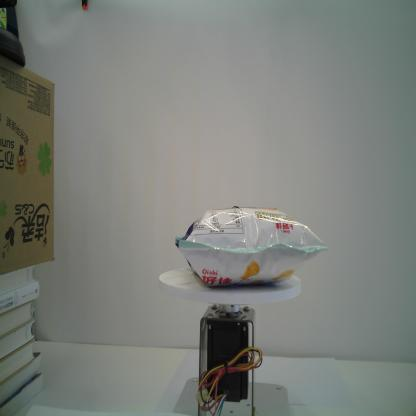Puffed Food: (174, 204, 328, 288)
